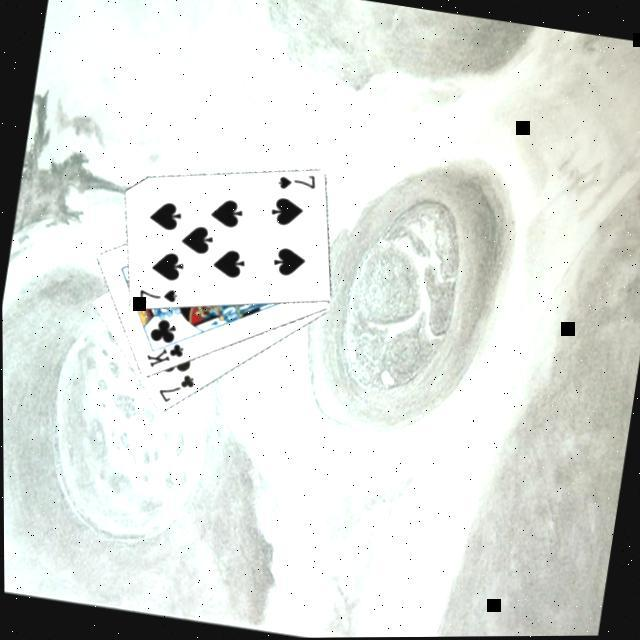7C: (154, 367, 200, 409)
7S: (274, 166, 320, 198), (135, 281, 180, 311)
KC: (141, 330, 189, 374)
